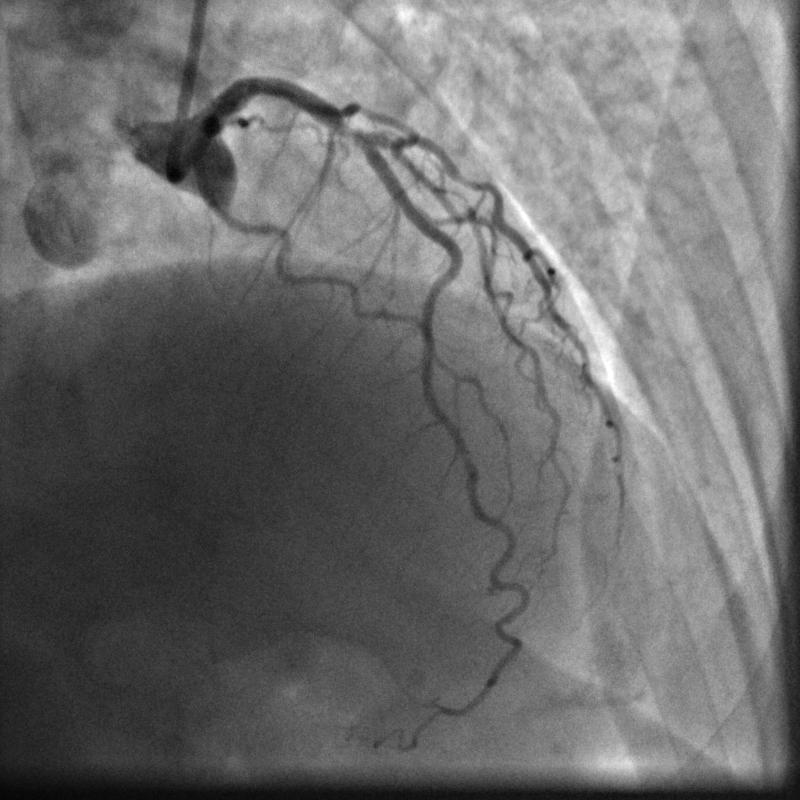Stenosis: (342, 117, 363, 148)
